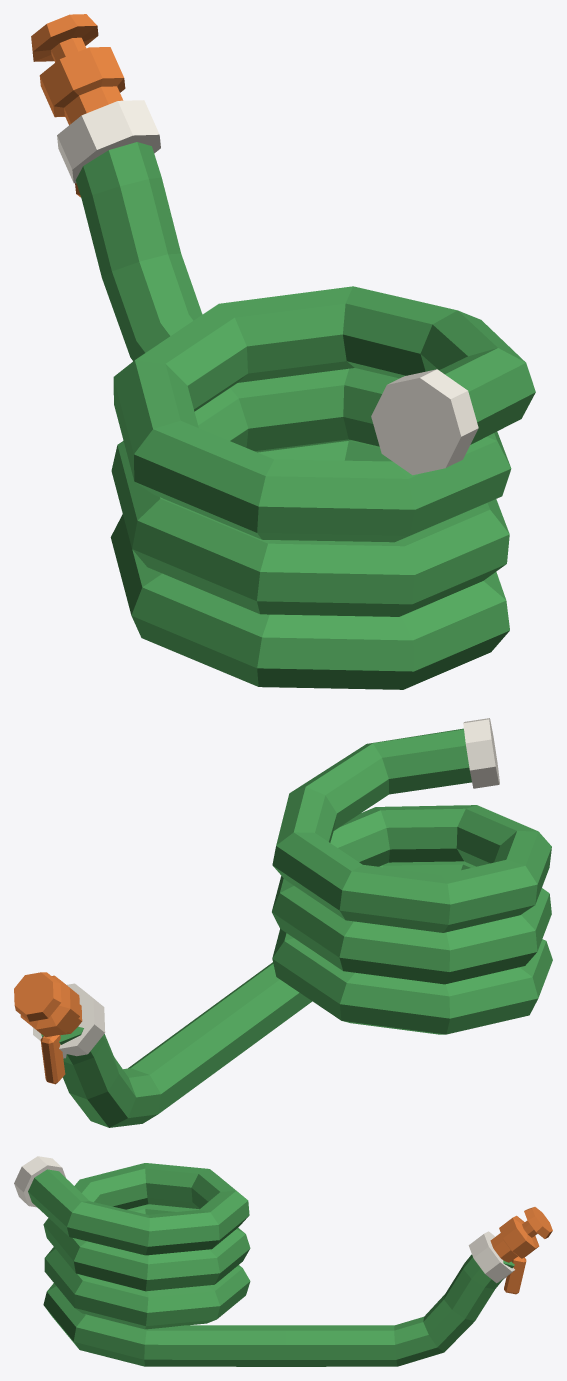
The model's file is garden_hose.glb.
The picture shows the model from 3 angles, top to bottom: view 1: azimuth 30°, elevation 25°; view 2: azimuth 150°, elevation 25°; view 3: azimuth 270°, elevation 25°; orthographic projection. The views are drawn at different scales.
Visible parts, largest first — view 1: hose, nozzle; view 2: hose, nozzle; view 3: hose, nozzle.
Boxes of the visible parts, left/top/right/bottom form: hose: left=57, top=100, right=535, bottom=689; nozzle: left=31, top=14, right=125, bottom=197; hose: left=33, top=718, right=552, bottom=1127; nozzle: left=14, top=972, right=82, bottom=1084; hose: left=14, top=1156, right=514, bottom=1366; nozzle: left=490, top=1207, right=552, bottom=1294.
Size of the model in its own units: 6.14 by 5.51 by 15.58.
